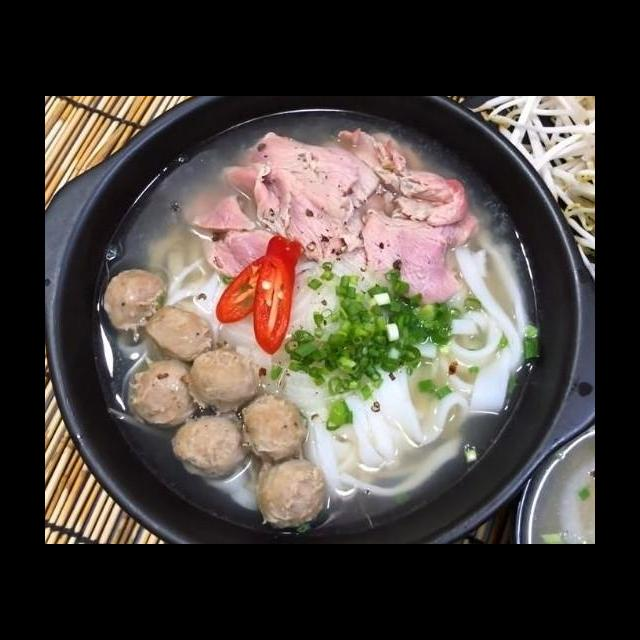banh pho: (276, 360, 472, 505), (214, 245, 368, 373), (439, 234, 533, 419)
pho bo: (59, 116, 595, 544)
thit bo: (210, 125, 380, 262), (349, 189, 480, 310), (334, 123, 472, 230), (201, 218, 294, 286)
